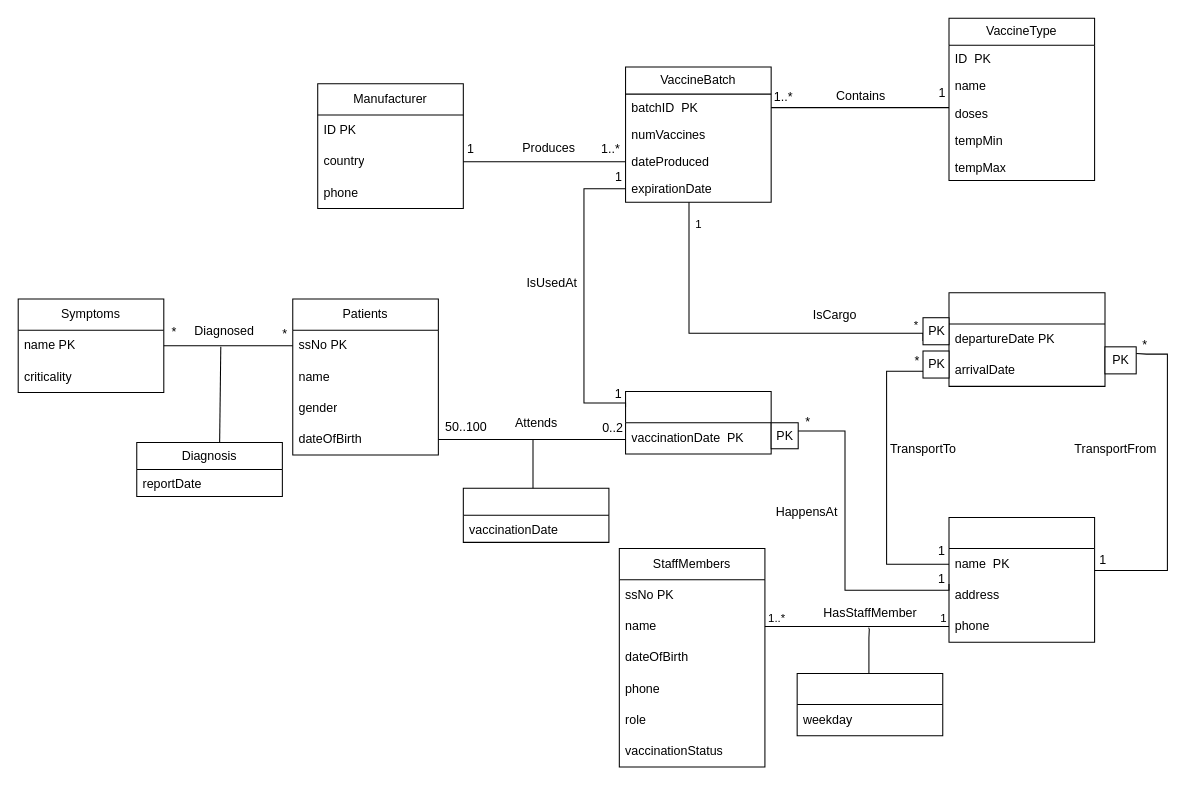
Some shapes in this 1187 by 785 pixel diagram are drawn without their labels. Here are the shapes that lost their labels. From the top down, the box of each, then its label:
(948, 292, 1105, 386): TransportationLog
(625, 391, 771, 454): Vaccinations
(462, 487, 609, 542): VaccinePatients
(948, 516, 1095, 642): VaccinationStations
(796, 672, 943, 736): Shifts
